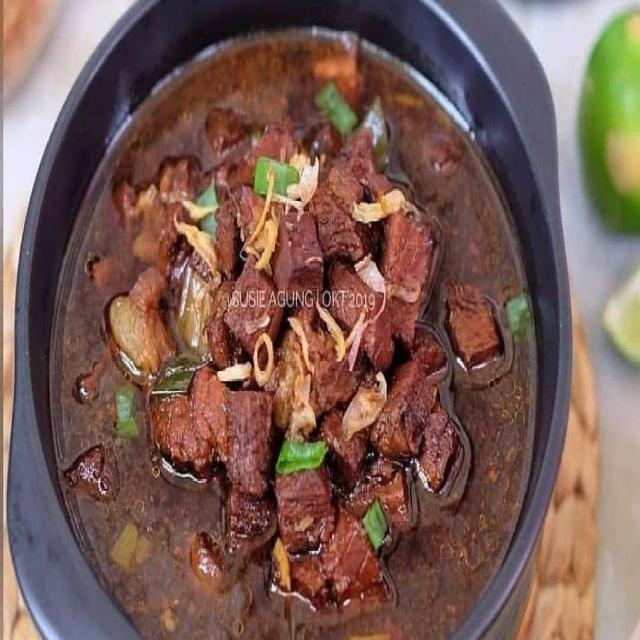Rawon: (38, 66, 534, 624)
